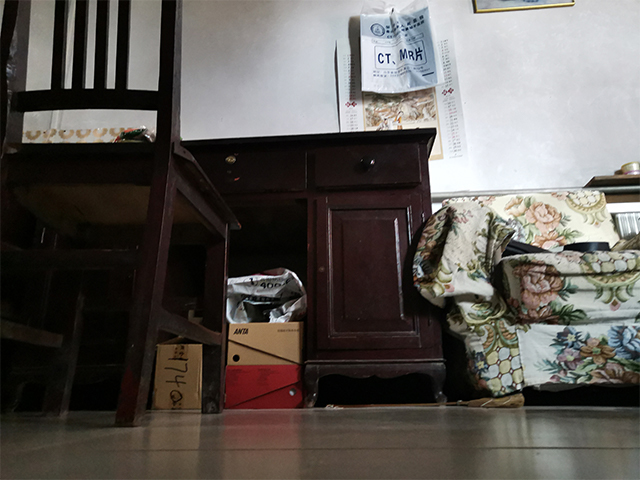cabinet: (178, 126, 451, 409)
sofa: (439, 190, 640, 409)
stool: (1, 1, 244, 429)
